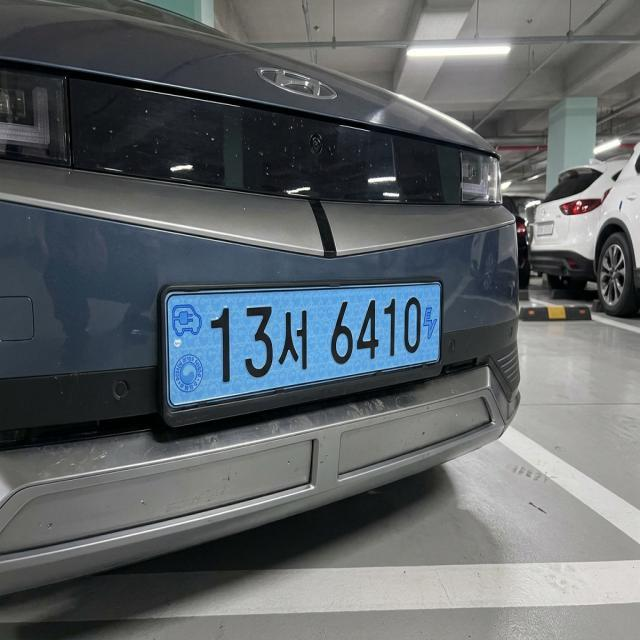car: (121, 250, 473, 468)
carev: (164, 291, 211, 412), (421, 284, 443, 364)
